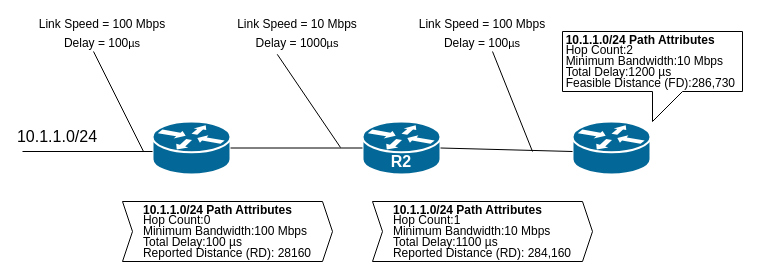
The diagram is 760 pixels wide and 279 high, and some of its shapes have lost their labels. Each missing label, with the centre of its shape:
"R1" belongs at point 191,147.
"R3" belongs at point 611,147.
